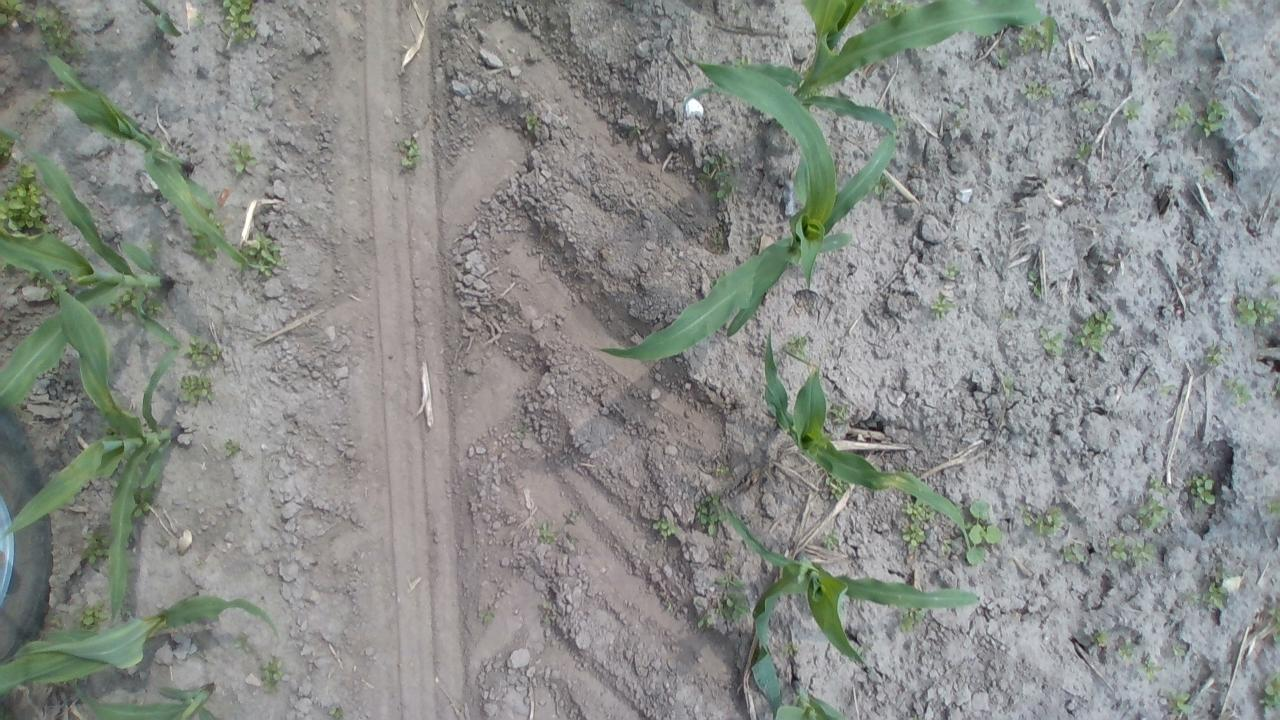Maize: (598, 59, 898, 362), (0, 269, 182, 627), (722, 505, 982, 709), (683, 1, 1060, 138), (38, 52, 264, 272), (0, 127, 176, 404), (762, 325, 972, 552), (0, 596, 276, 698), (70, 679, 220, 720), (776, 676, 843, 720), (138, 0, 183, 38)
Weeds: (0, 162, 50, 241), (708, 546, 751, 622), (233, 230, 285, 277), (966, 501, 1002, 566), (34, 8, 78, 55), (1072, 309, 1116, 355), (696, 154, 736, 198), (1233, 294, 1280, 329), (220, 1, 258, 40), (900, 500, 930, 548), (1138, 27, 1178, 63), (694, 490, 725, 536), (1195, 99, 1229, 139), (1106, 536, 1154, 564), (186, 332, 224, 367), (1180, 472, 1215, 509), (1190, 576, 1228, 610), (1136, 496, 1170, 532), (1016, 24, 1058, 53), (179, 373, 214, 406), (187, 228, 219, 264), (1257, 671, 1280, 720), (106, 290, 140, 323), (80, 530, 110, 566), (0, 0, 33, 31), (864, 0, 915, 20), (1164, 689, 1196, 720), (230, 140, 258, 174), (1038, 504, 1066, 538), (76, 598, 108, 627), (258, 653, 282, 691), (130, 487, 157, 518), (1020, 77, 1054, 101), (398, 133, 420, 170), (896, 606, 924, 633), (1226, 377, 1252, 406), (930, 294, 956, 322), (1040, 326, 1064, 356), (1170, 101, 1194, 130), (651, 516, 678, 540), (784, 332, 810, 356), (44, 278, 68, 304), (144, 293, 170, 316), (1267, 601, 1280, 647), (824, 475, 848, 499), (1202, 344, 1228, 366), (802, 71, 822, 99), (1140, 658, 1162, 682), (1060, 542, 1084, 564), (827, 404, 852, 425), (1122, 99, 1144, 122), (1016, 504, 1037, 528), (1076, 95, 1098, 116), (1147, 474, 1170, 494), (821, 529, 842, 550), (222, 438, 244, 458), (1027, 269, 1042, 298), (0, 138, 21, 158), (537, 523, 556, 545), (232, 634, 255, 652), (10, 402, 33, 420), (1074, 140, 1094, 160), (519, 112, 540, 131), (209, 214, 227, 236), (1116, 642, 1135, 662), (874, 174, 892, 195), (995, 46, 1012, 68), (998, 374, 1015, 396), (1092, 628, 1110, 648), (942, 262, 962, 280), (1264, 498, 1280, 520), (478, 606, 496, 625), (1199, 165, 1218, 183), (937, 534, 954, 554), (1171, 642, 1189, 660), (780, 642, 800, 658), (542, 602, 554, 627), (696, 614, 714, 630), (730, 53, 750, 67), (328, 703, 344, 720), (26, 270, 43, 286), (564, 510, 580, 526), (714, 463, 730, 478), (146, 242, 164, 255), (1158, 382, 1173, 396), (1213, 0, 1232, 11), (630, 127, 643, 140), (894, 115, 906, 129), (1001, 310, 1015, 320), (1272, 378, 1280, 395), (1272, 274, 1280, 284)
